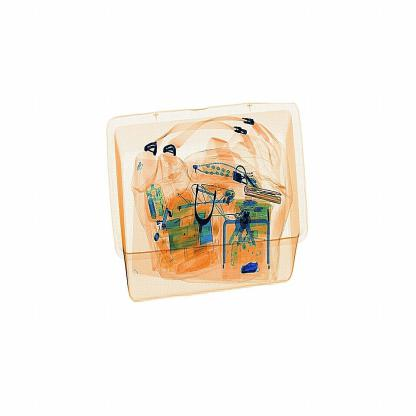knife: (240, 259, 257, 276)
